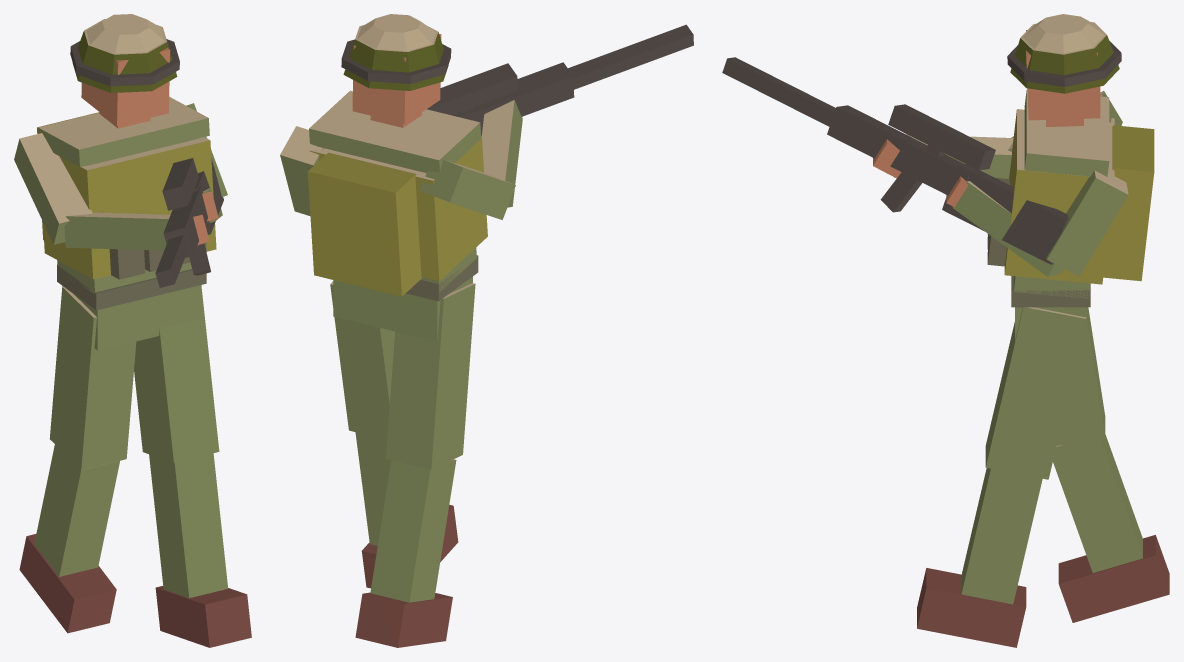
File: SM_SoldadoArmado_v4_G28_Apuntando_LOD1.fbx
3 views of the same model, side by side, from view 1: azimuth 30°, elevation 25°; view 2: azimuth 150°, elevation 25°; view 3: azimuth 270°, elevation 25° (orthographic).
Parts seen in each view (by area): view 1: SM_bloques.soldado_armado_v4_LOD1; view 2: SM_bloques.soldado_armado_v4_LOD1; view 3: SM_bloques.soldado_armado_v4_LOD1.
Part boxes in pixels (x1,y1,x2,y2): SM_bloques.soldado_armado_v4_LOD1: (14,14,251,647); SM_bloques.soldado_armado_v4_LOD1: (280,14,693,647); SM_bloques.soldado_armado_v4_LOD1: (722,14,1169,647).
Bounding box in the file's own units: 0.6996 × 1.77 × 1.18.
